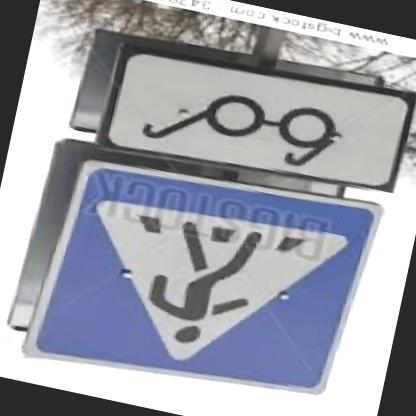crosswalk: (39, 144, 389, 415)
